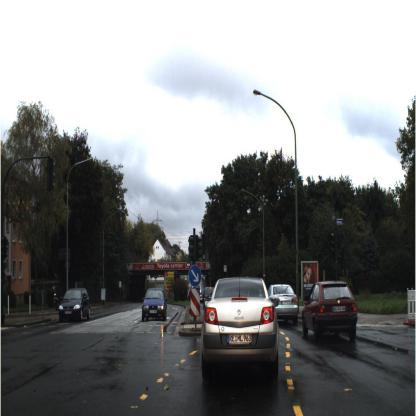mandatory: (187, 264, 202, 288)
